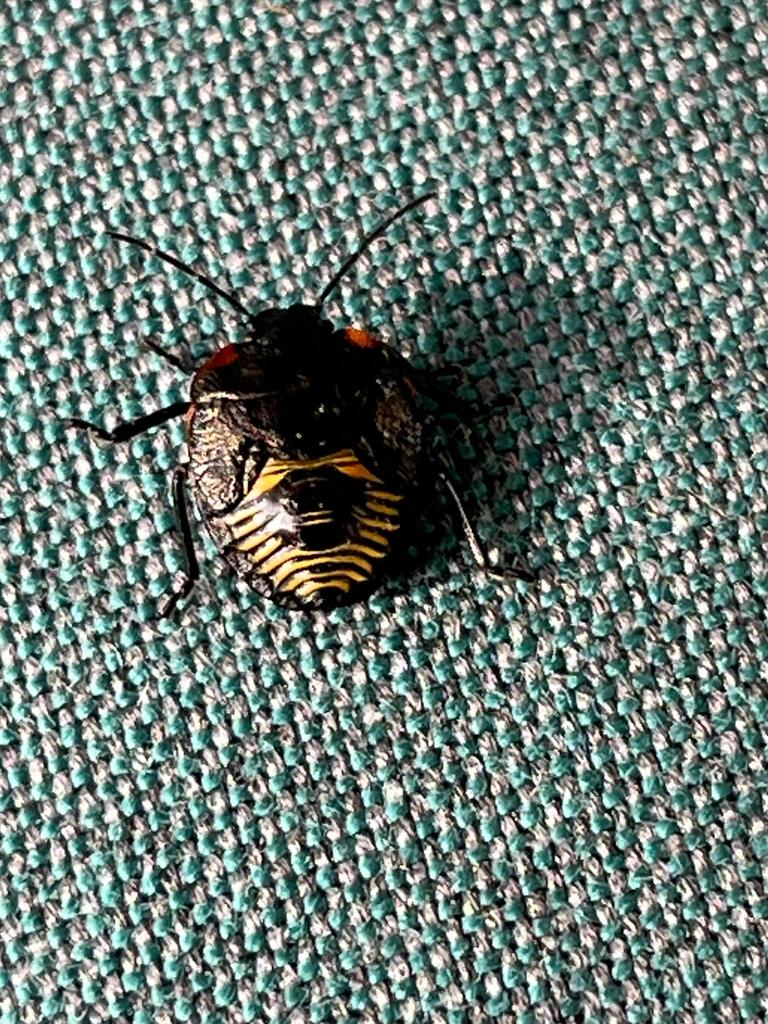stink_bugs: (24, 141, 587, 702)
